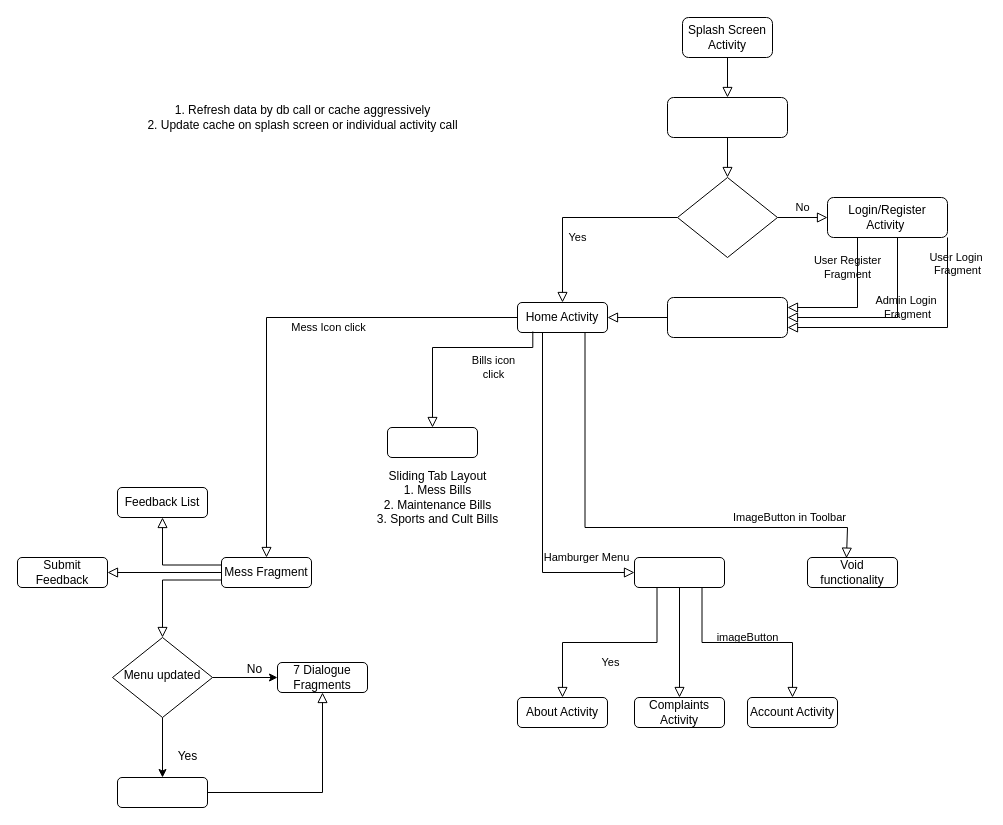
This 1003x825 diagram has some shape labels left out. Each missing label, with the box of its shape:
Bills Fragment: (386, 426, 478, 458)
Check firebase for user credentials: (666, 96, 788, 138)
Check firebase, add user credentials: (666, 296, 788, 338)
Firebase fetch documents: (116, 776, 208, 808)
Sidebar element: (634, 556, 724, 588)
User/Admin Logged in: (676, 176, 778, 258)
